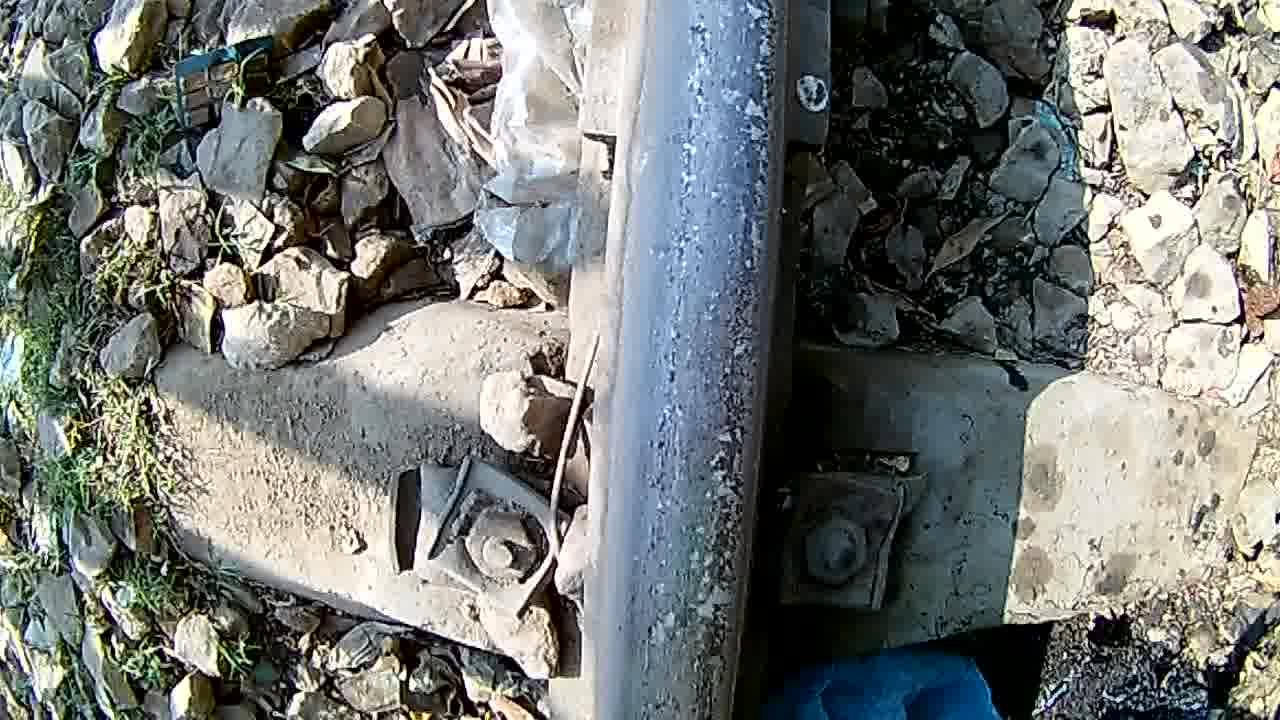clip_missing: (614, 6, 792, 720)
